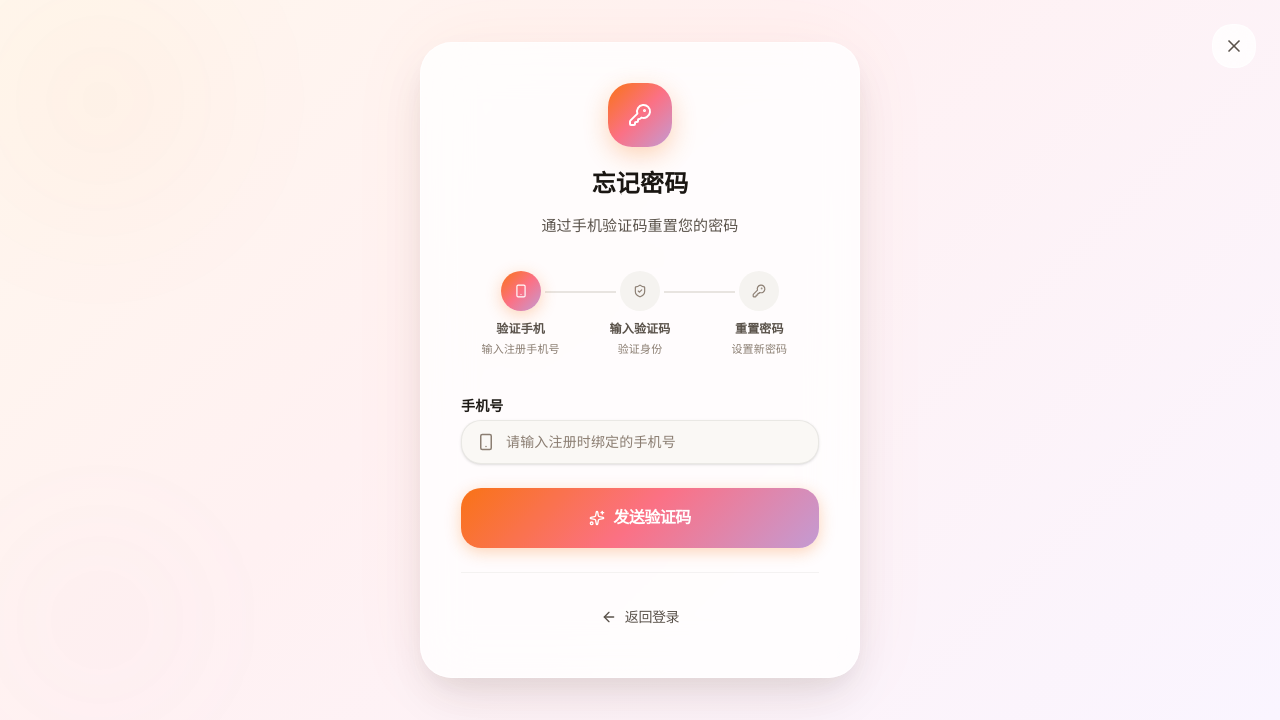
it: ForgotPasswordPage › advances to step 3 after entering verify code
Type "13800138000" into the field with test id "input-forgot-phone" at x=640, y=442, box [461,420,819,464]
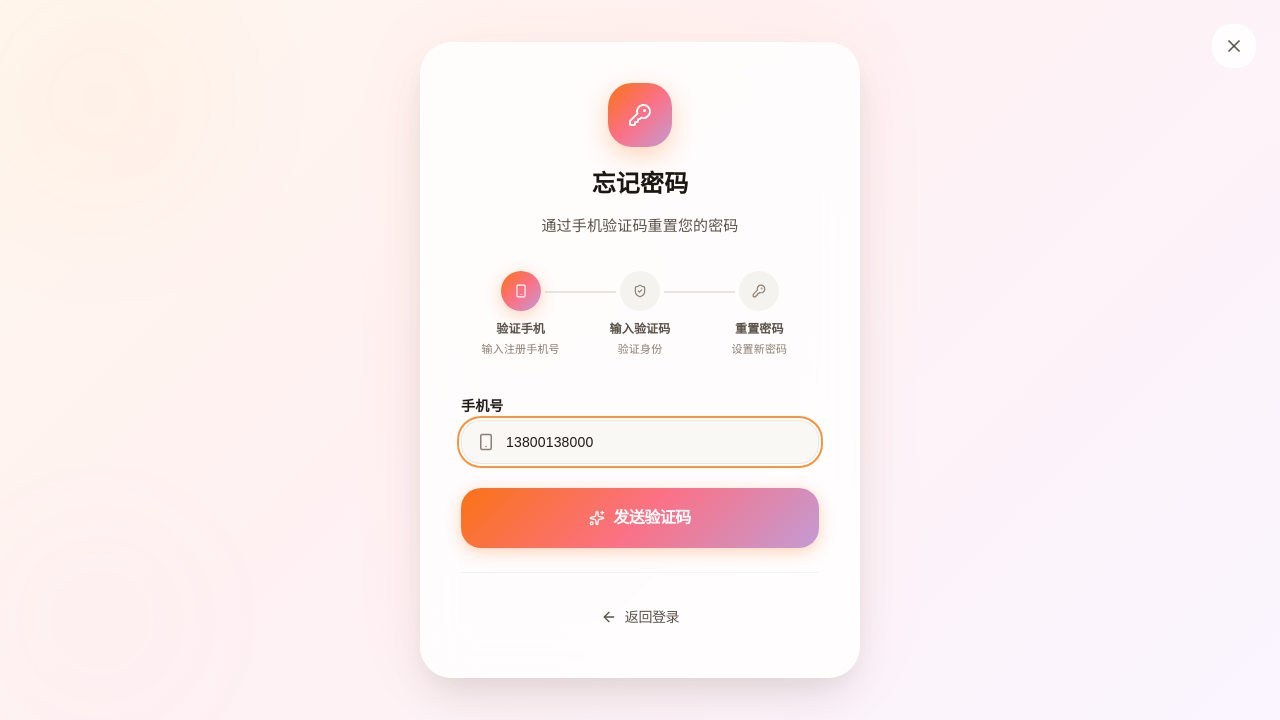
Click the button with test id "btn-send-code" at x=640, y=518, box [461,488,819,548]
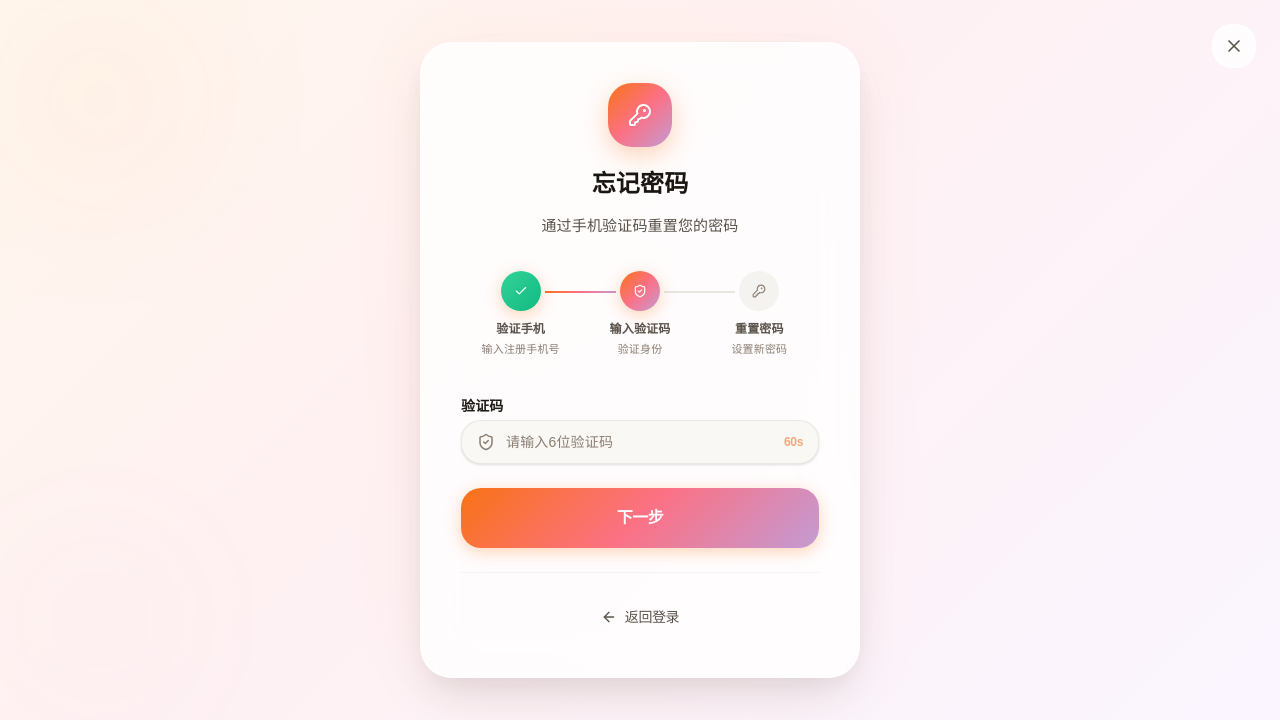
Type "123456" into the field with test id "input-verify-code" at x=640, y=442, box [461,420,819,464]
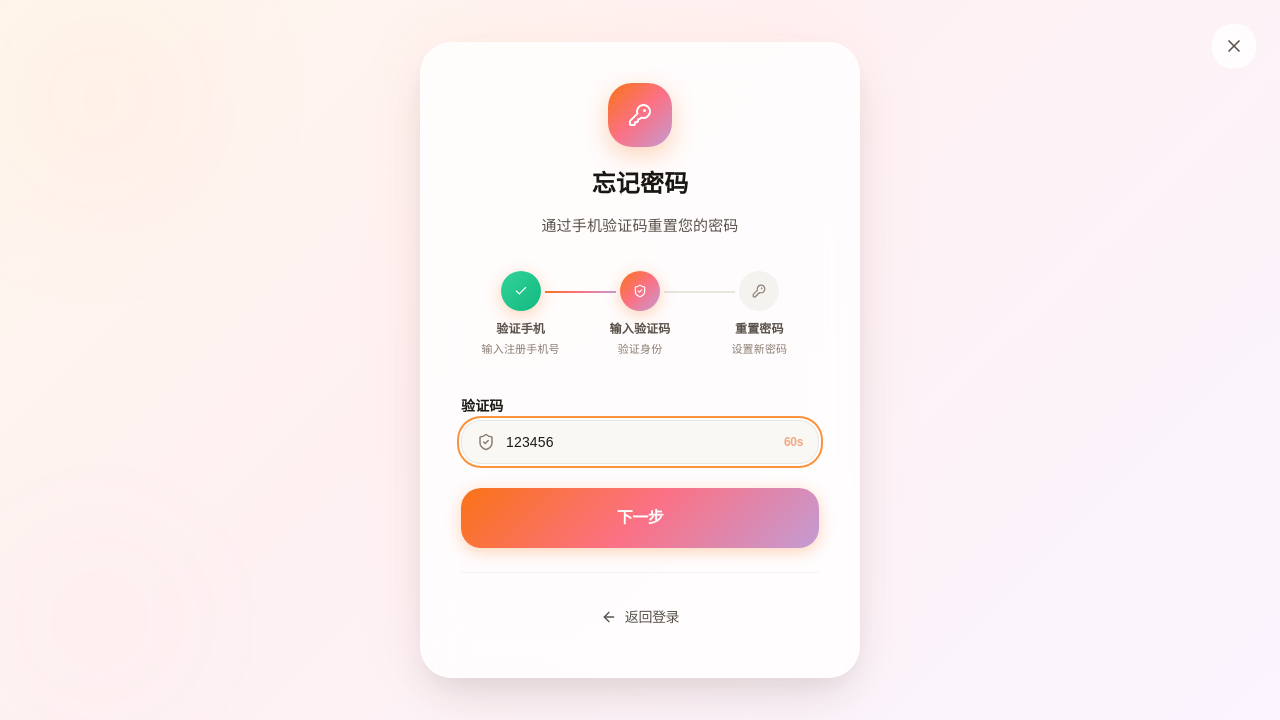
Click the button with test id "btn-verify-next" at x=640, y=518, box [461,488,819,548]
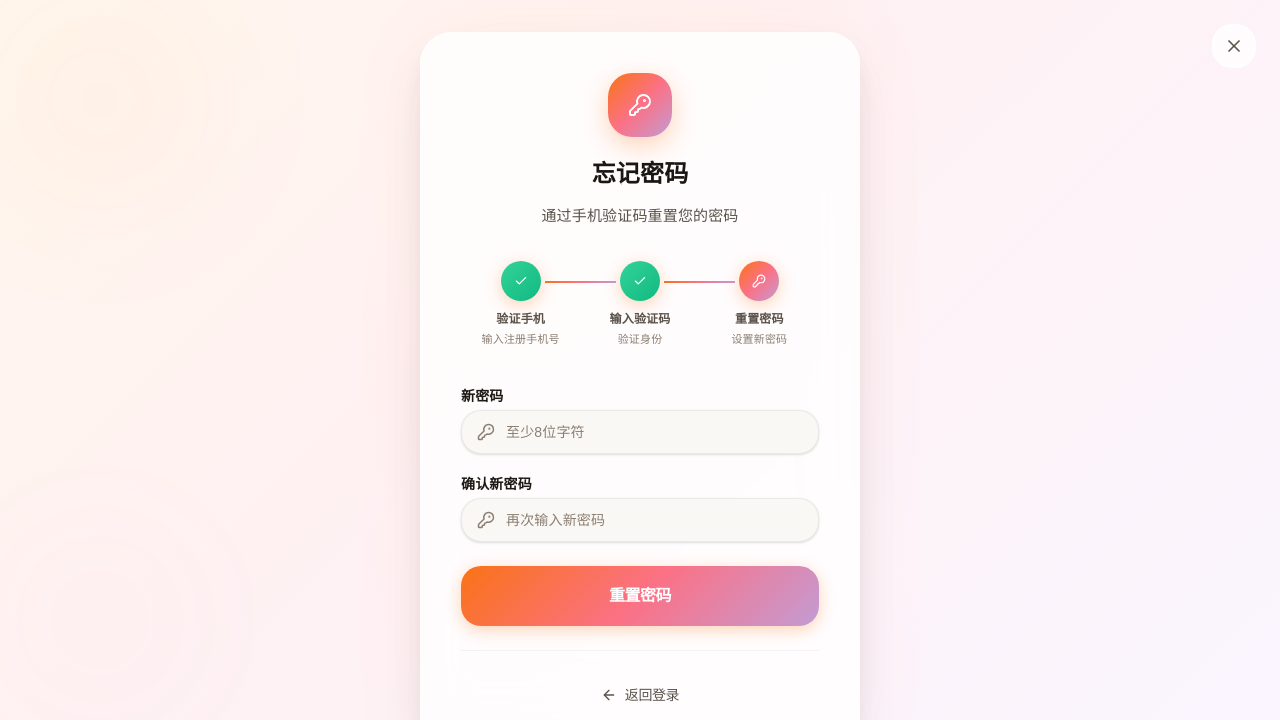
Now the password field with test id "input-new-password" is shown, box [461,410,819,454]
Now the password field with test id "input-confirm-new-password" is shown, box [461,498,819,542]
Now the button with test id "btn-reset-password" is shown, box [461,566,819,626]
